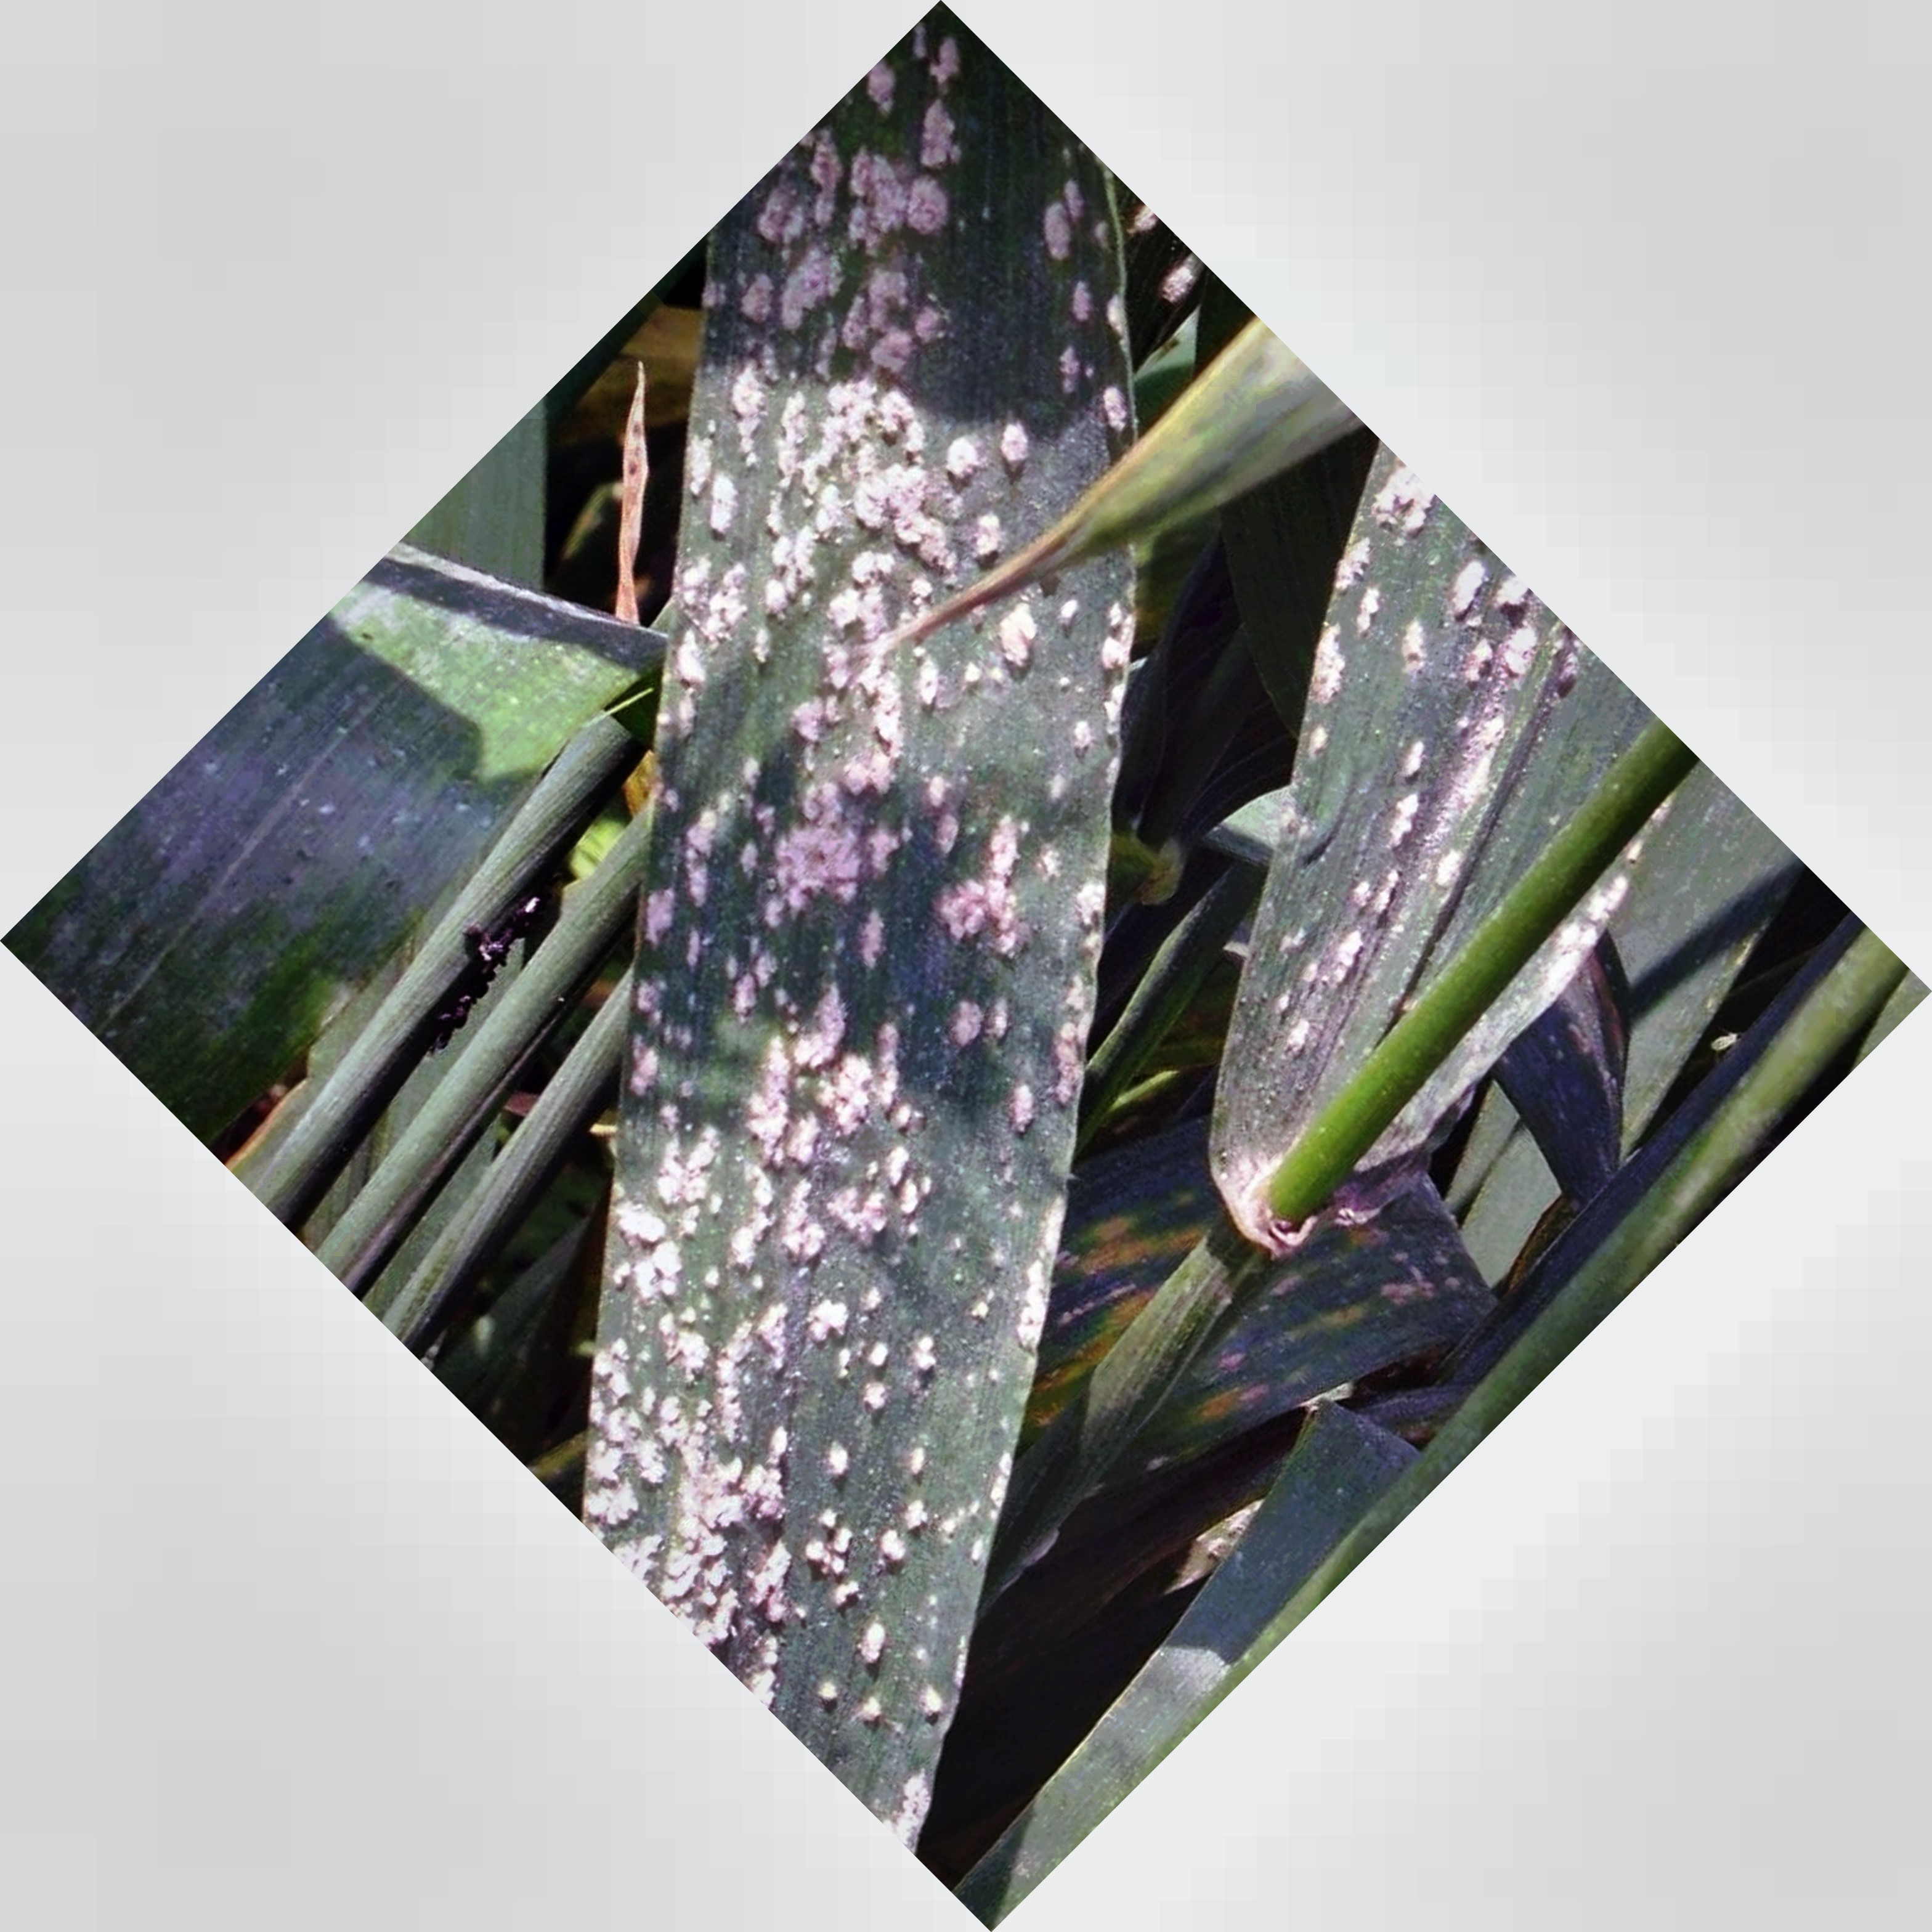Powdery Mildew: (580, 191, 1095, 1651)
